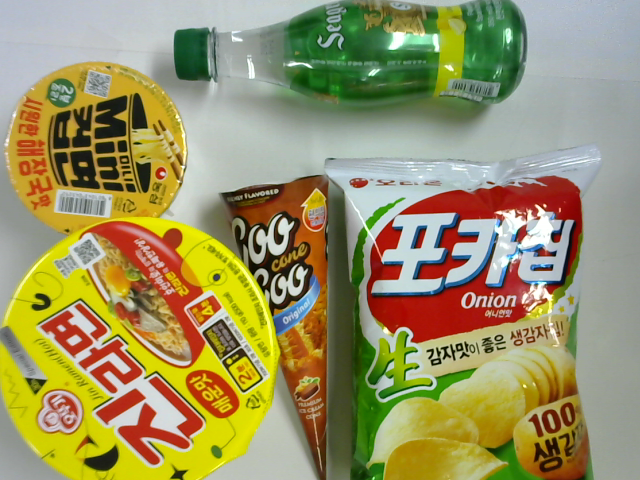GooGoo_Cone_CVS: (220, 172, 351, 480)
Hejangmini: (3, 64, 187, 236)
Jinlamyeon_Hot_Taste_Large_Cup: (4, 217, 283, 480)
Pocachip_Onion: (328, 146, 599, 480)
Seagram_Lemon_Carbonated_Water: (173, 1, 539, 105)
